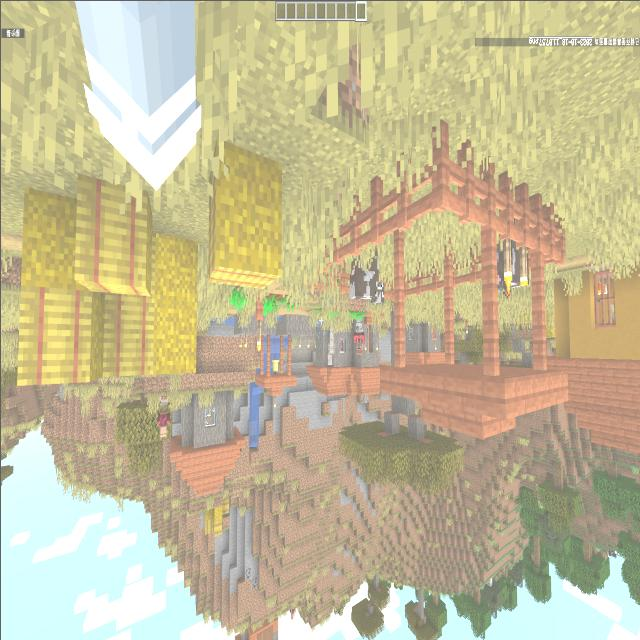cow: (486, 212, 532, 294), (345, 240, 385, 305)
